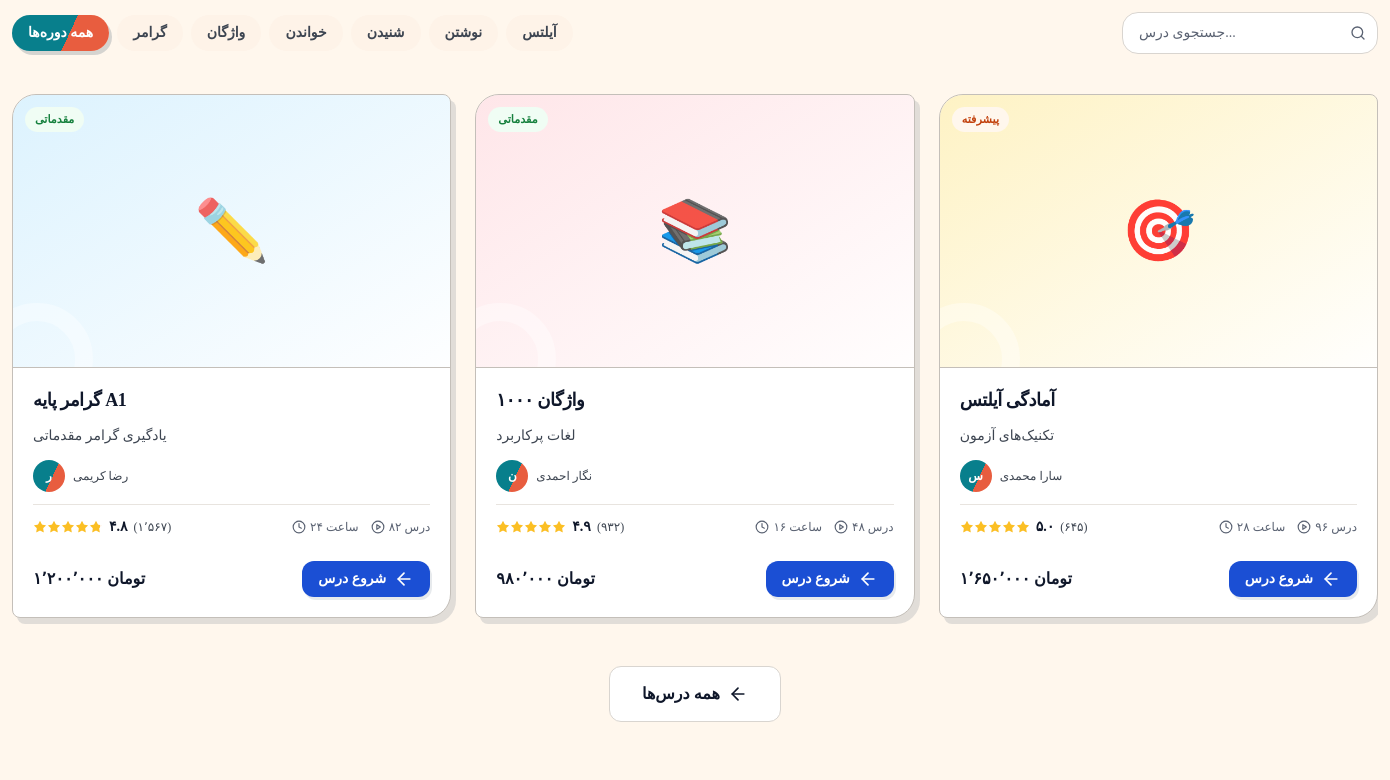
PopularCoursesClient › filters courses by vocabulary category
Click the tab "واژگان": {"x": 226, "y": 33} top-left (191, 15), bottom-right (261, 51)
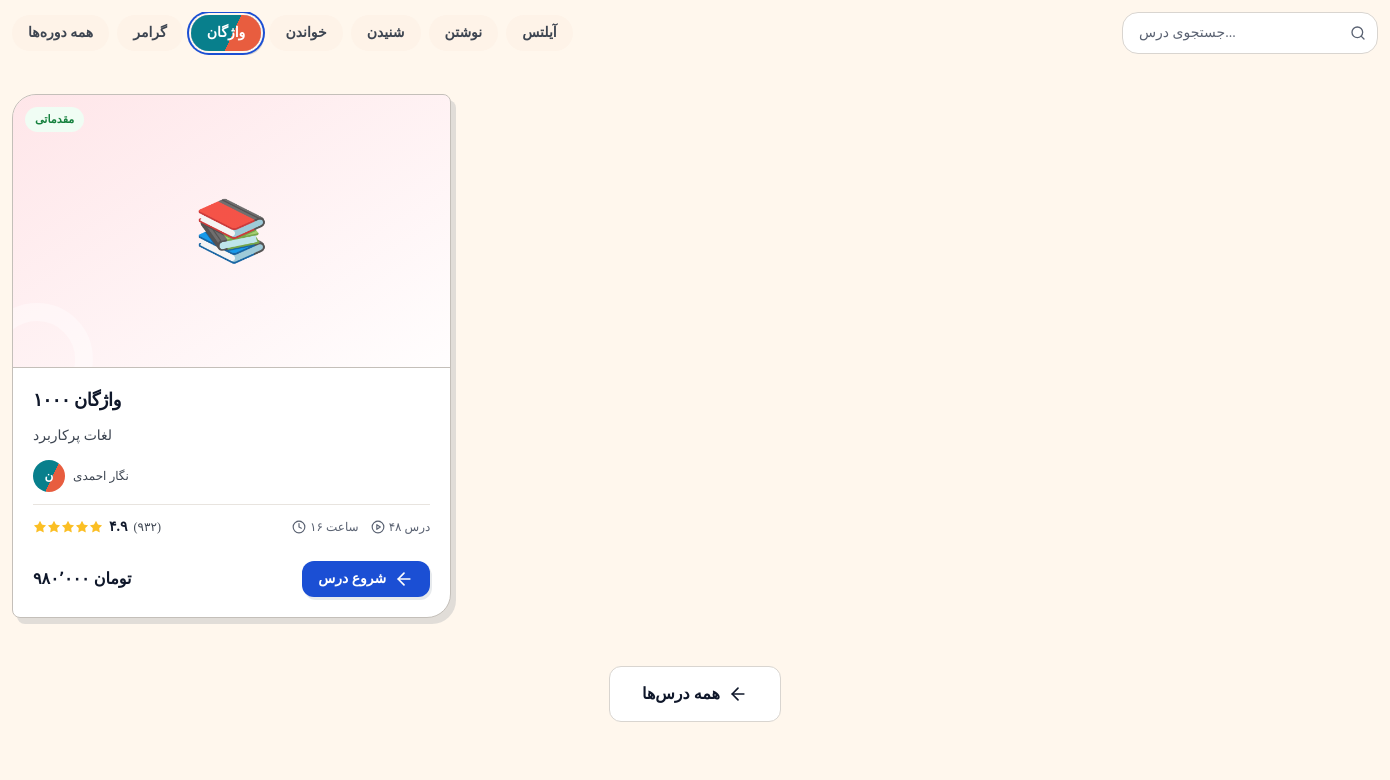
Expected: the heading "واژگان ۱۰۰۰" is shown, top-left (33, 390), bottom-right (121, 410)
Expected: the heading "گرامر پایه A1" is gone
